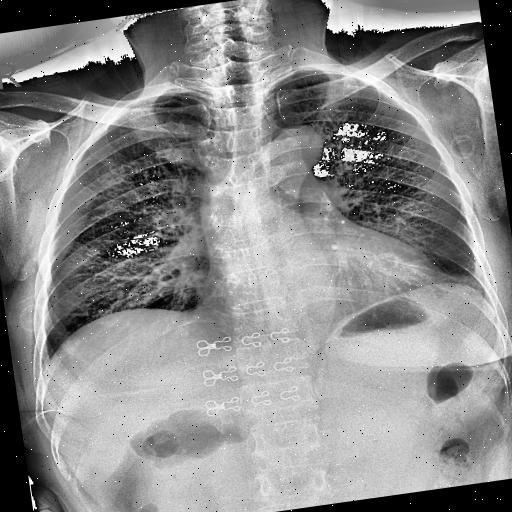0- Aortic enlargement: (263, 120, 333, 192), (258, 120, 326, 178), (261, 120, 326, 176)
3- Cardiomegaly: (192, 230, 452, 336), (191, 227, 450, 329), (188, 250, 449, 348)
